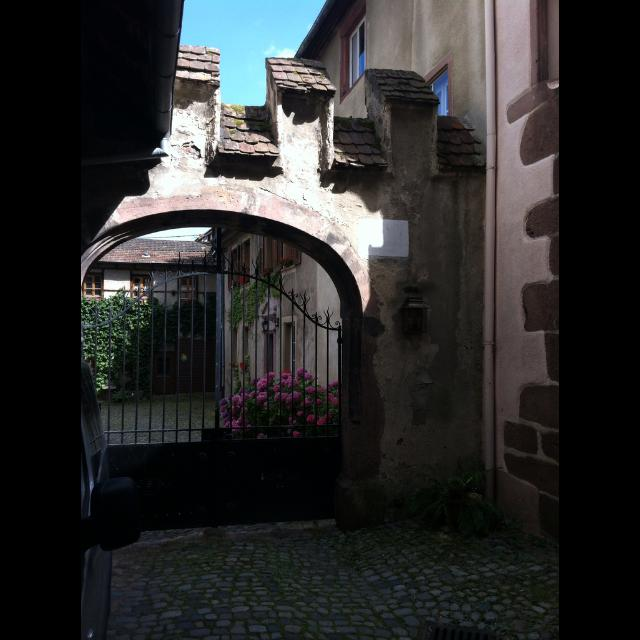Flower: (210, 364, 338, 446), (258, 392, 266, 400)
